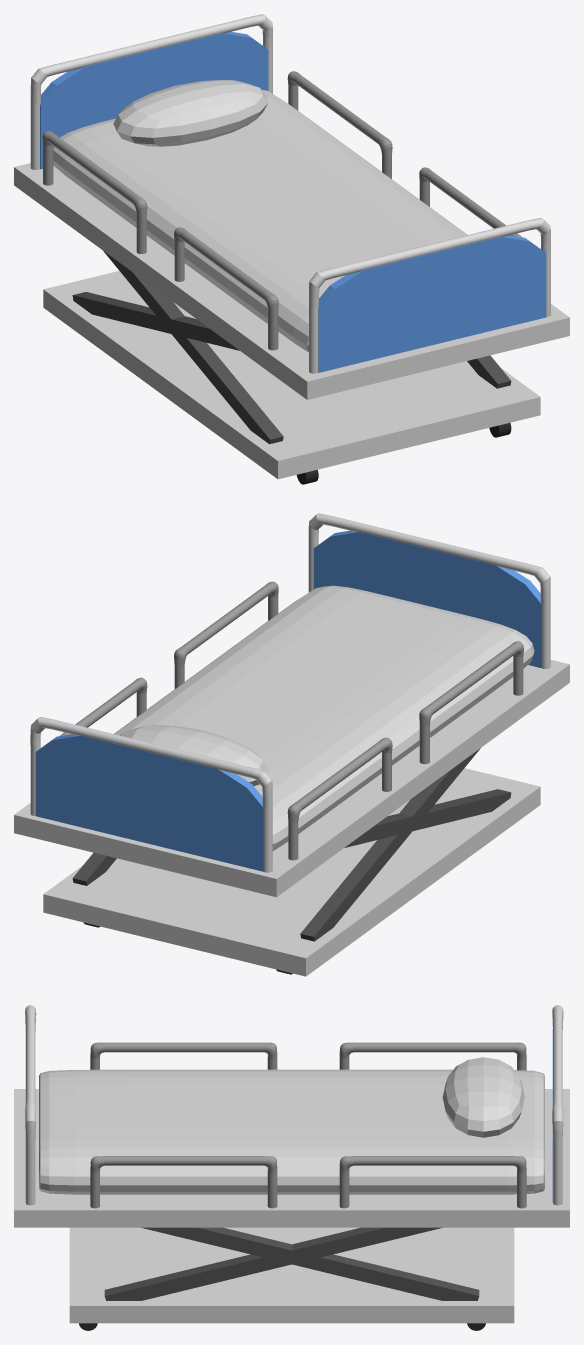
Rendered from kasur.glb.
The picture shows the model from 3 angles, top to bottom: view 1: azimuth 30°, elevation 25°; view 2: azimuth 150°, elevation 25°; view 3: azimuth 270°, elevation 25°; orthographic projection. The views are drawn at different scales.
Visible parts, largest first — view 1: Cube.007; view 2: Cube.007; view 3: Cube.007.
Boxes of the visible parts, x1,y1,x2,y2 form: Cube.007: (14,14,569,484); Cube.007: (14,513,569,976); Cube.007: (14,1005,569,1330).
Size of the model in its own units: 3 by 2.59 by 5.8.
